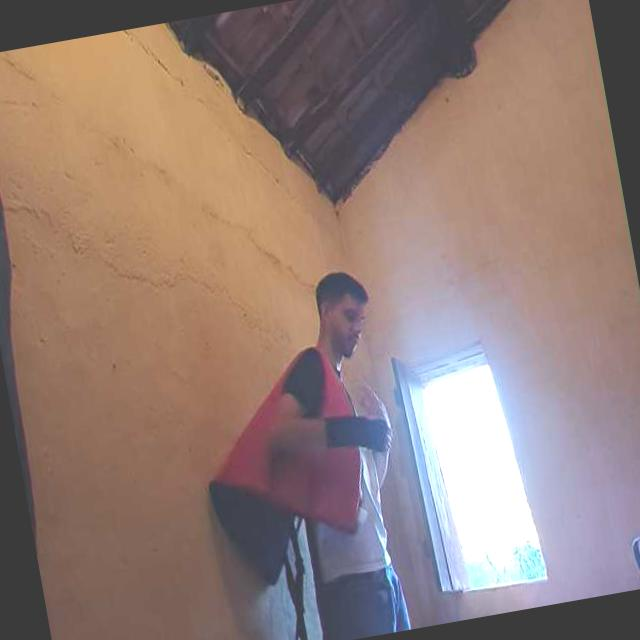capacete: (621, 506, 640, 589)
colete: (191, 339, 381, 583)
pessoa: (266, 265, 423, 640)
